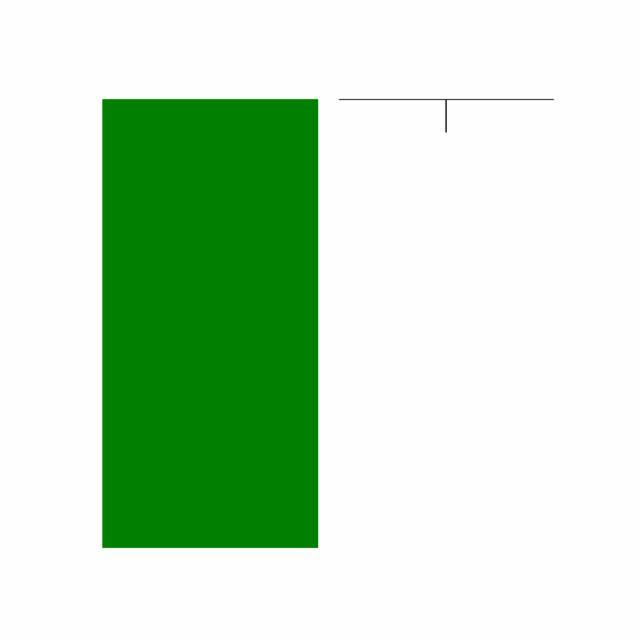Hanging Man: (328, 99, 566, 135)
